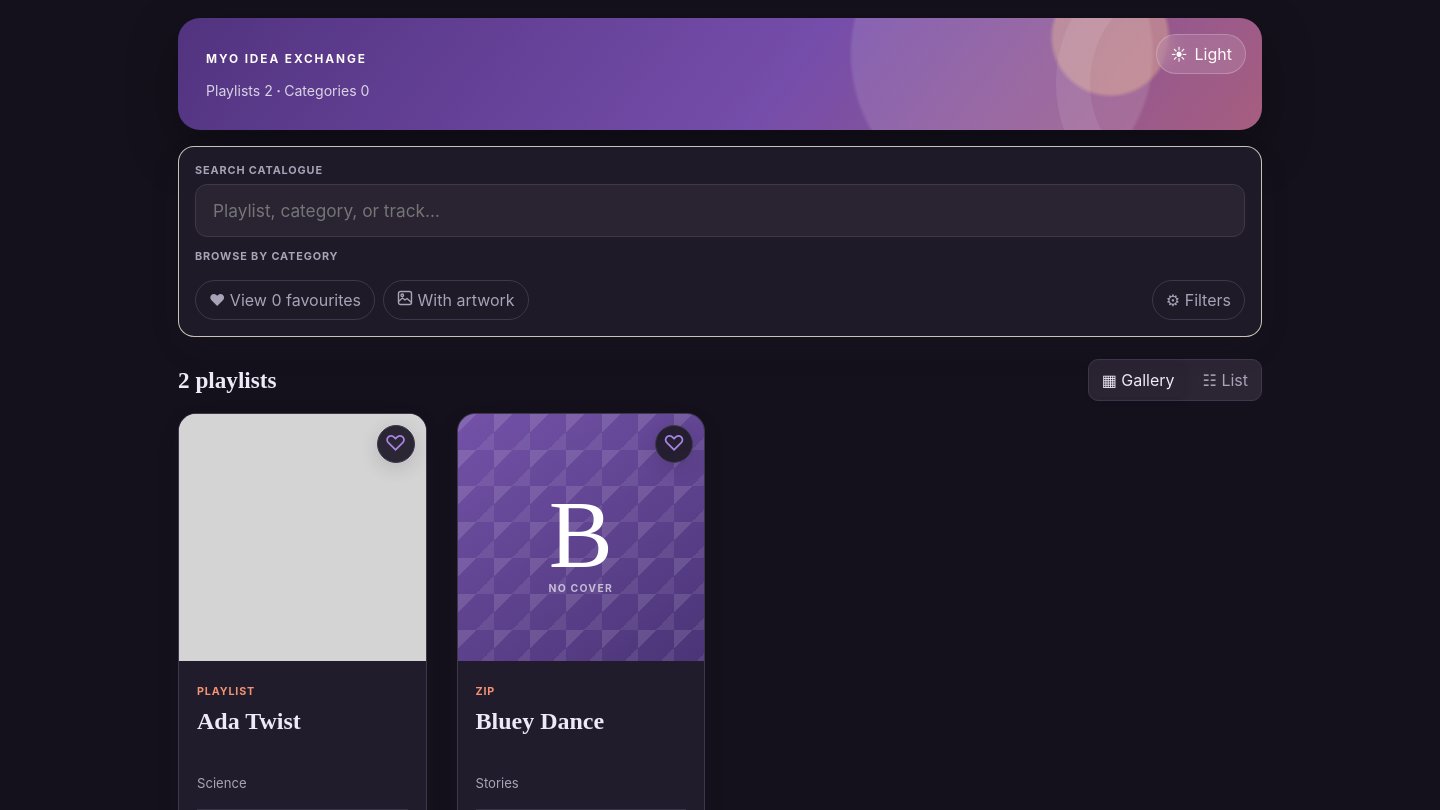
catalogue app › keeps an explicit clear-search button visible whenever search has text
The width and height of the screenshot is (1440, 810).
In the search field: (720, 210) [195,184,1245,237], type "Ada"
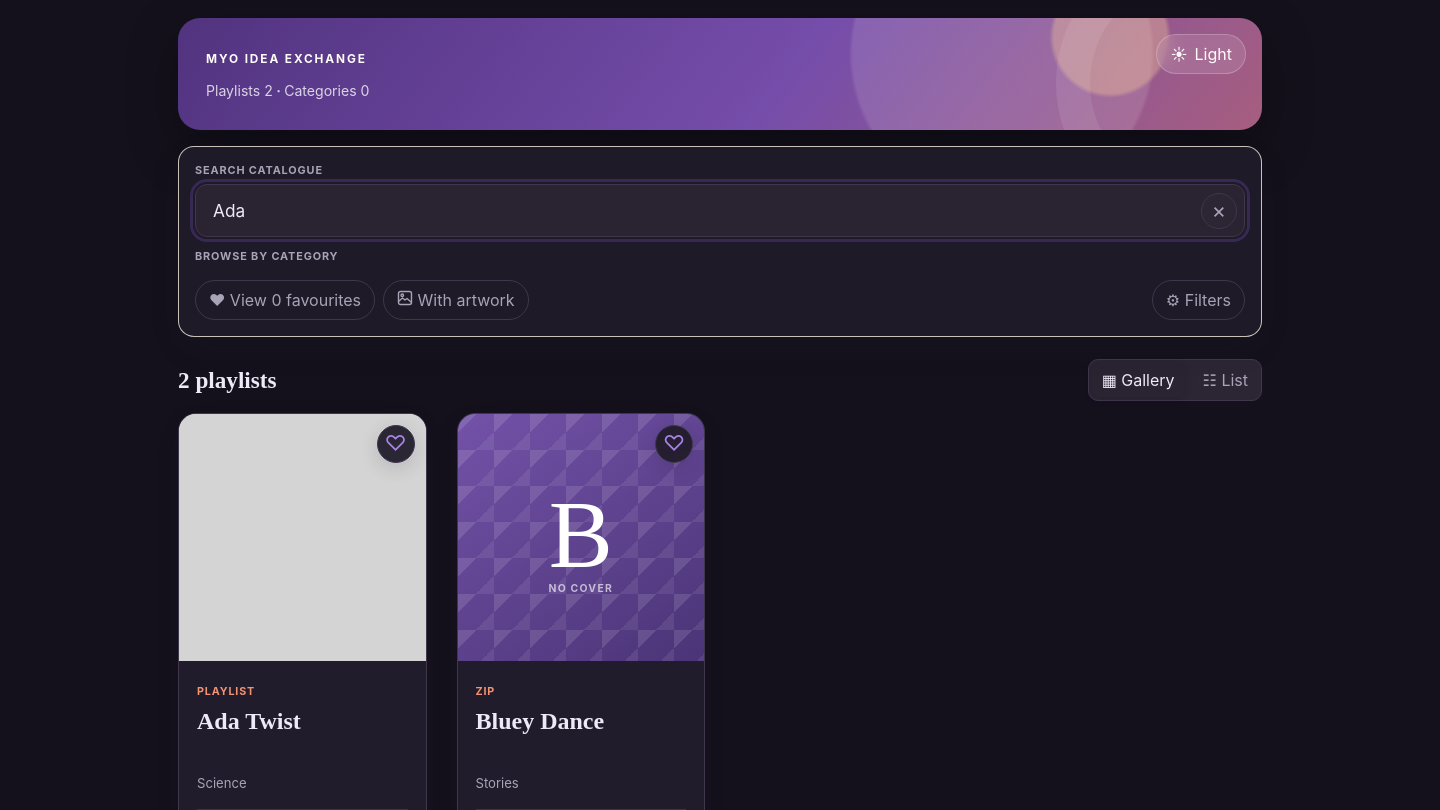
Press Tab
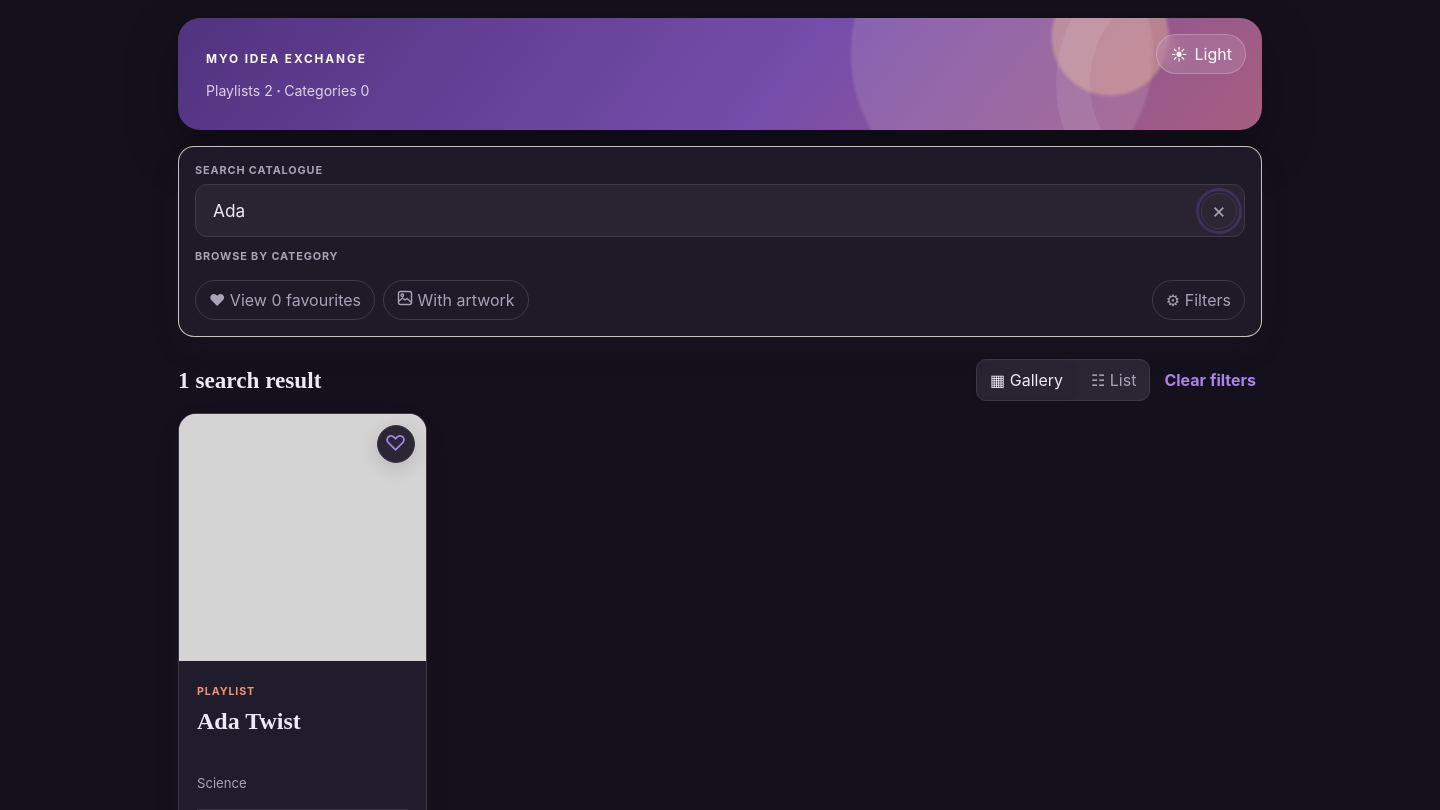
Result: the button named "Clear search" is shown
Click the button named "Clear search": (1219, 210) [1201,192,1237,228]
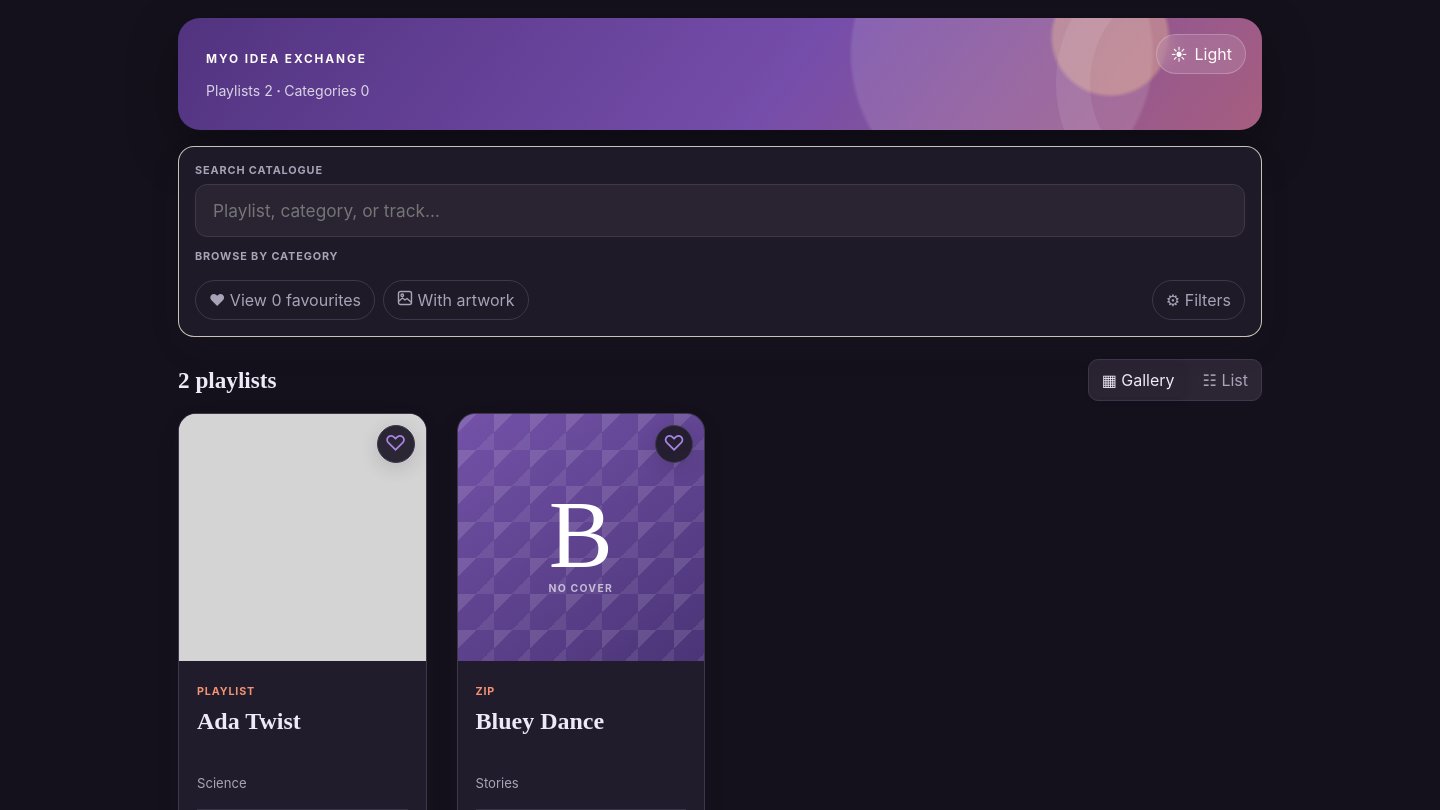
Result: the search field is empty at [195,184,1245,237]
